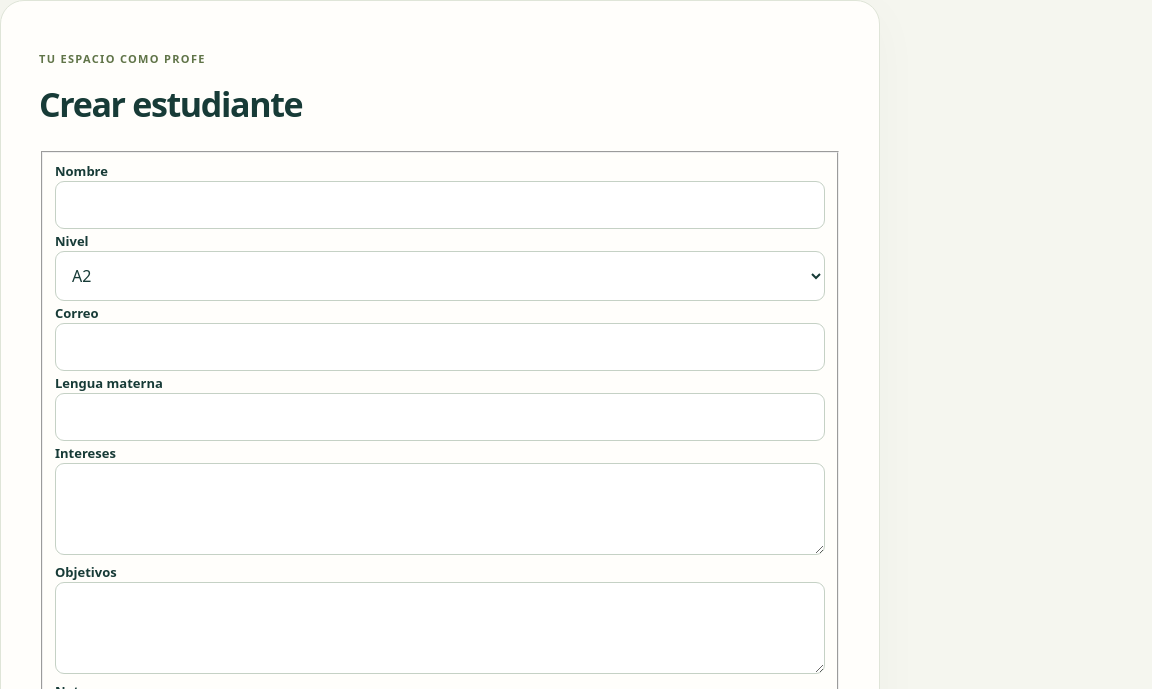
Scenario: marks the exact field the server rejected without discarding the input
Expected: the heading "Crear estudiante" is shown, [39,81,302,127]
Step 1. Type "Alba" into the field labelled "Nombre" → (440, 204), box [55,180,825,228]
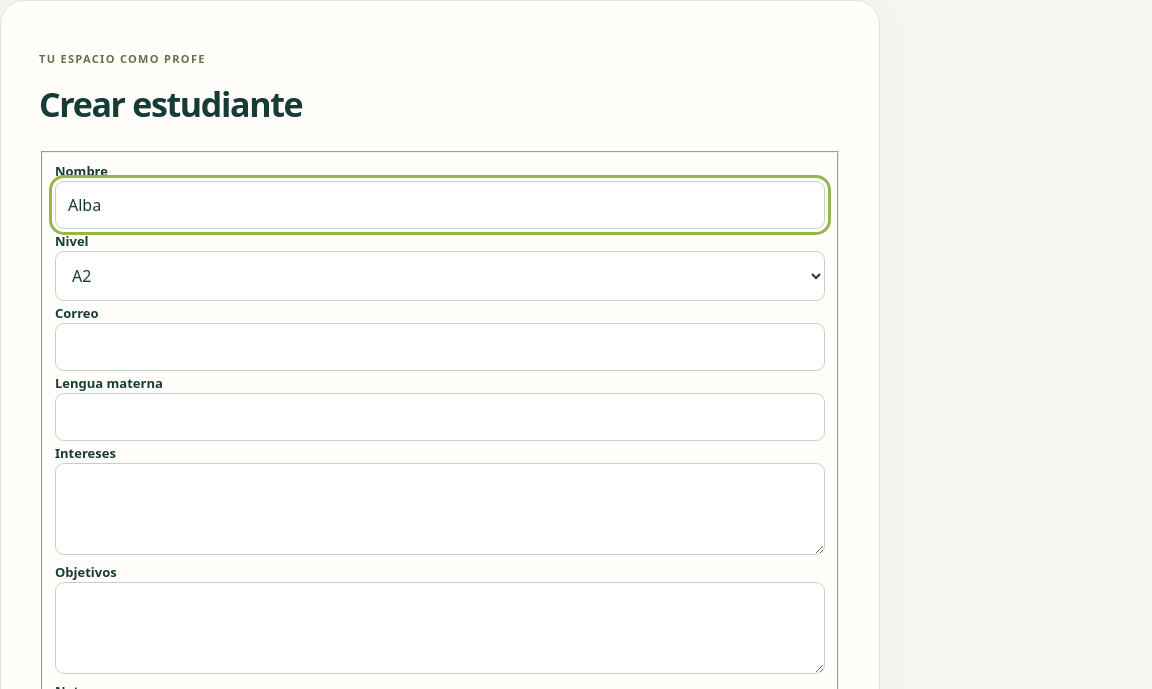
Step 2. Type "Ajedrez" into the text box labelled "Intereses" → (440, 508), box [55,462,825,554]
(page scrolled)
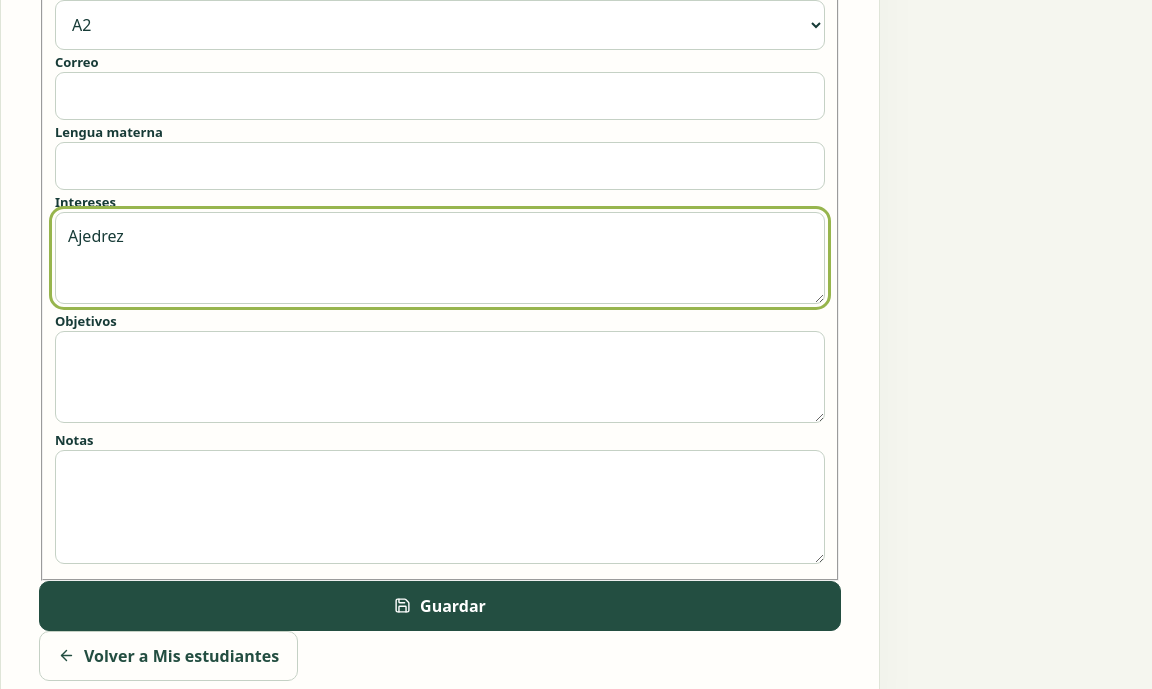
Step 3. Click the button "Guardar" → (440, 606), box [39,580,841,630]
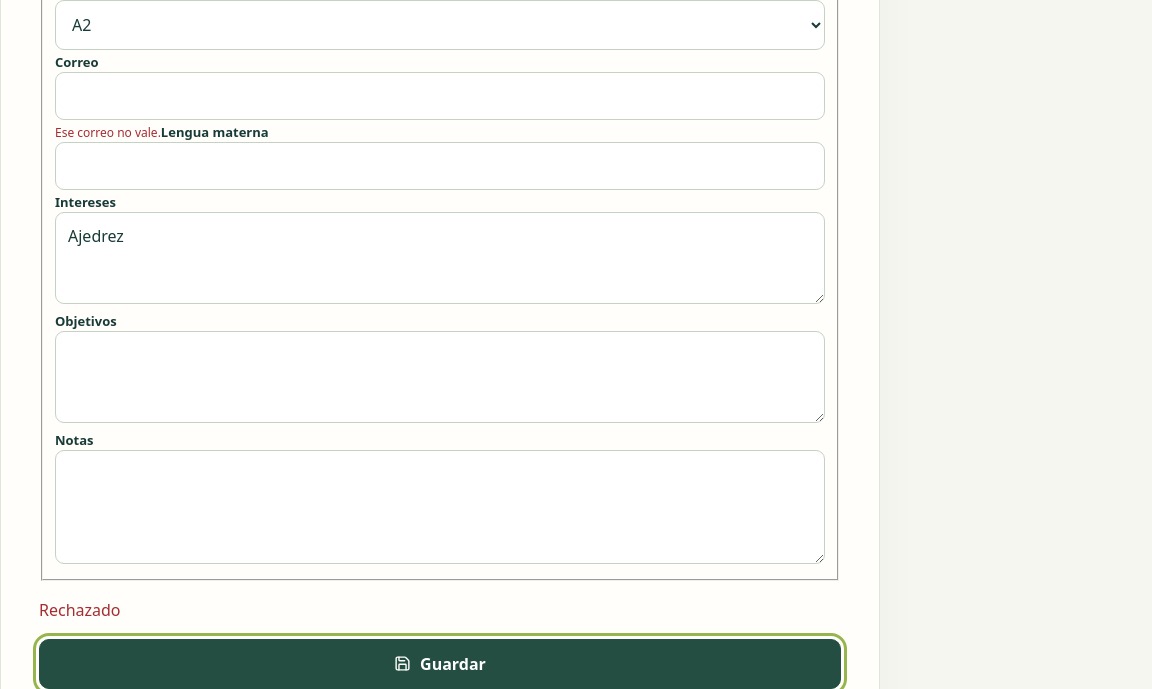
Expected: the text "Ese correo no vale." is shown, [55,124,161,140]
